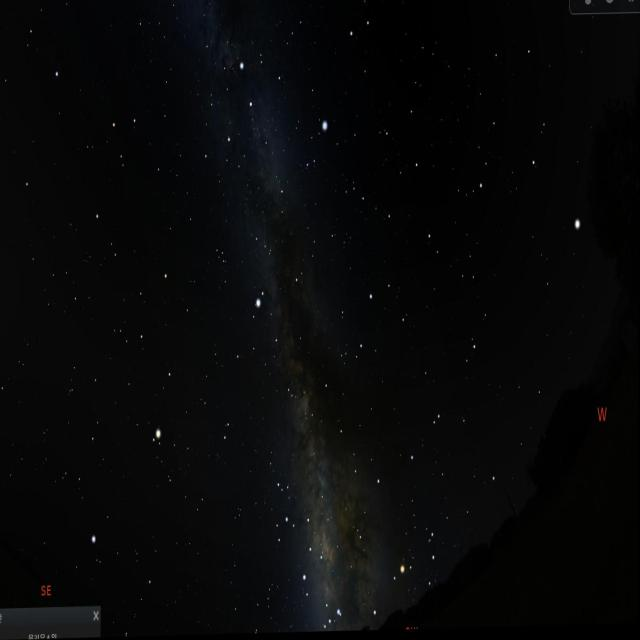aquila: (231, 269, 308, 413)
bootes: (454, 37, 596, 272)
cygnus: (222, 54, 288, 222)
lyra: (296, 120, 339, 181)
sagittarius: (256, 471, 324, 599)
scorpius: (324, 489, 442, 633)
